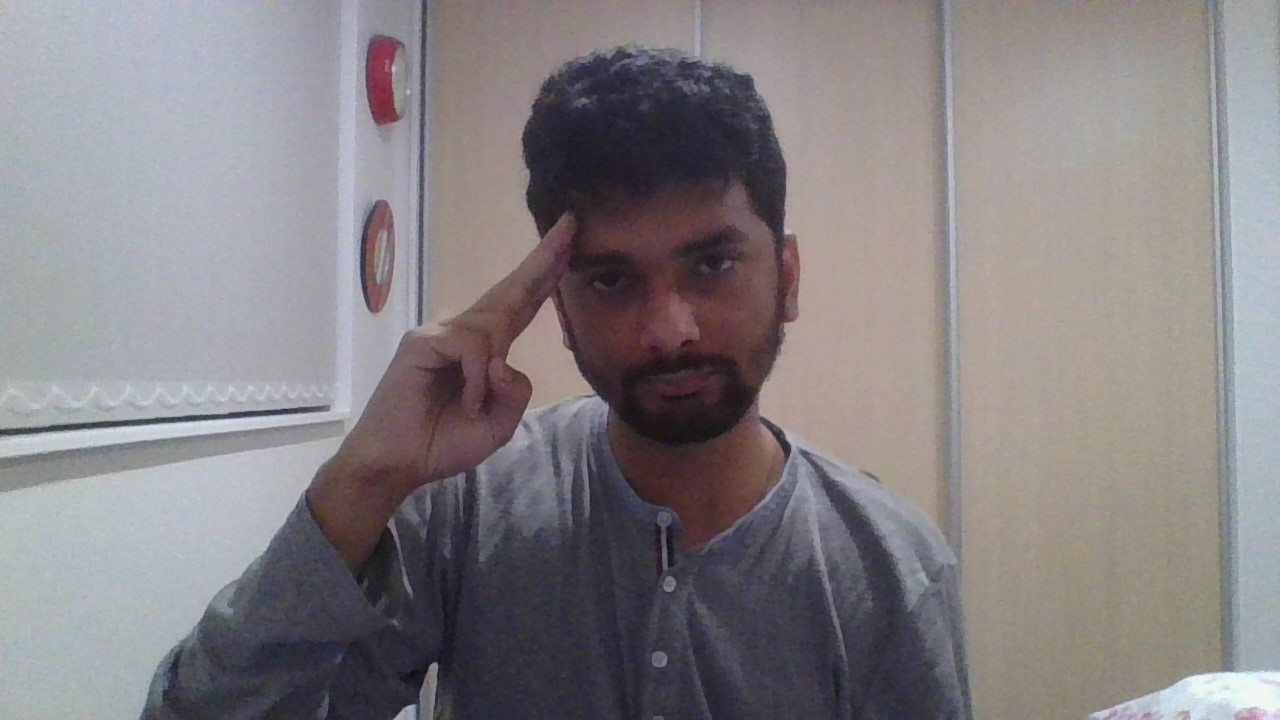peace: (341, 210, 577, 475)
